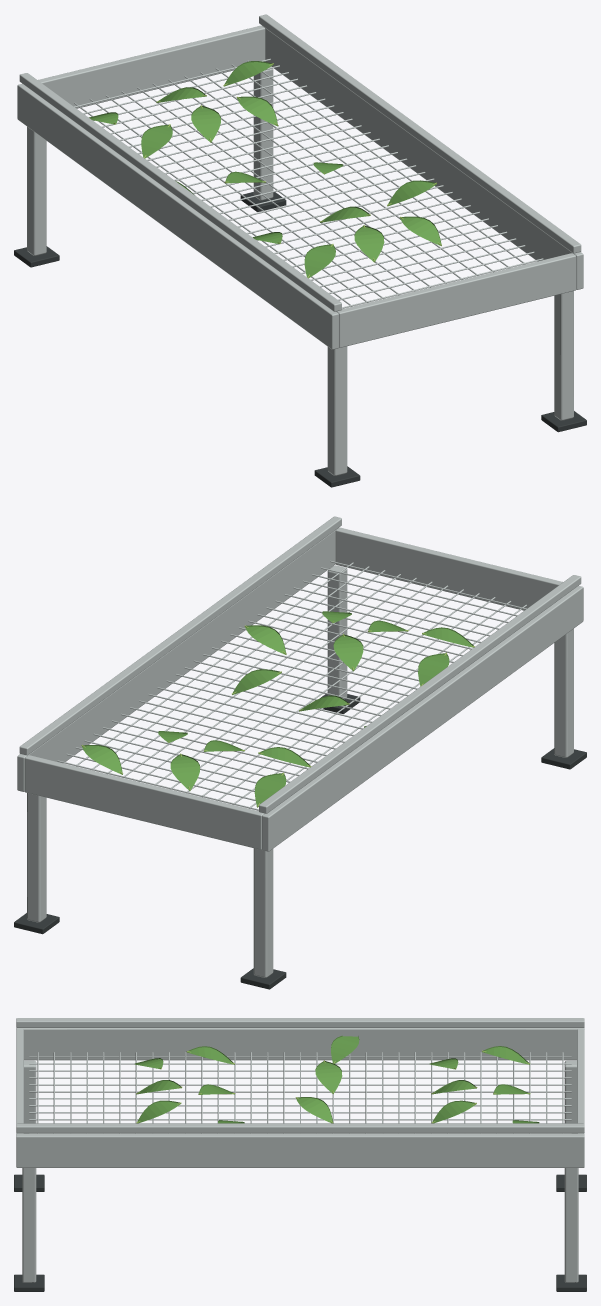
The model's file is tea-garden-and-processing-house-tea-garden-and-process-f2f3b6a4__30765.glb.
3 renders of one model, top to bottom at view 1: azimuth 30°, elevation 25°; view 2: azimuth 150°, elevation 25°; view 3: azimuth 270°, elevation 25°, orthographic. The views are drawn at different scales.
Parts seen in each view (by area): view 1: tea-garden-and-processing-house-withering-bed; view 2: tea-garden-and-processing-house-withering-bed; view 3: tea-garden-and-processing-house-withering-bed.
Part boxes in pixels (left/top/right/bottom): tea-garden-and-processing-house-withering-bed: left=14, top=14, right=586, bottom=487; tea-garden-and-processing-house-withering-bed: left=14, top=516, right=586, bottom=989; tea-garden-and-processing-house-withering-bed: left=14, top=1018, right=586, bottom=1291.
Bounding box in the file's own units: 1.22 × 0.8249 × 2.62.
